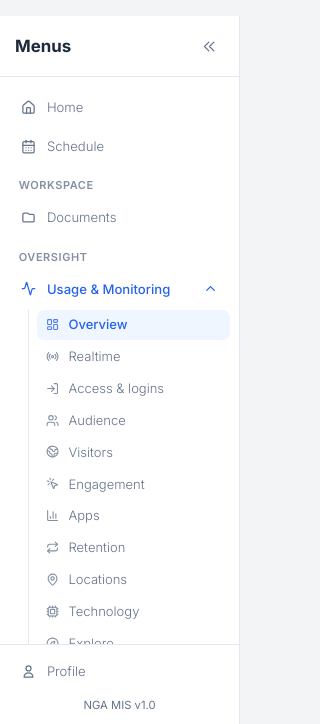
Scenario: Usage & Monitoring sidebar group › shows every page to a platform owner and toggles closed
Click the button "Usage & Monitoring" at (120, 289), box [9,270,230,308]
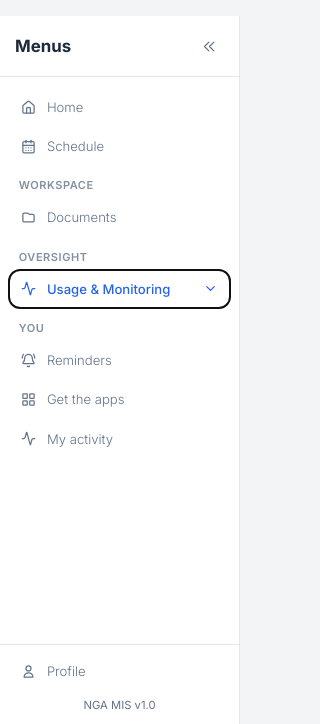
Expected: the button "Usage & Monitoring" is collapsed, [9,270,230,308]
